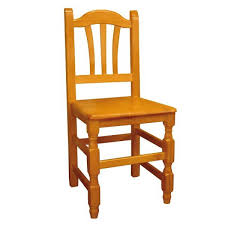tiyarina: (58, 4, 177, 219)
